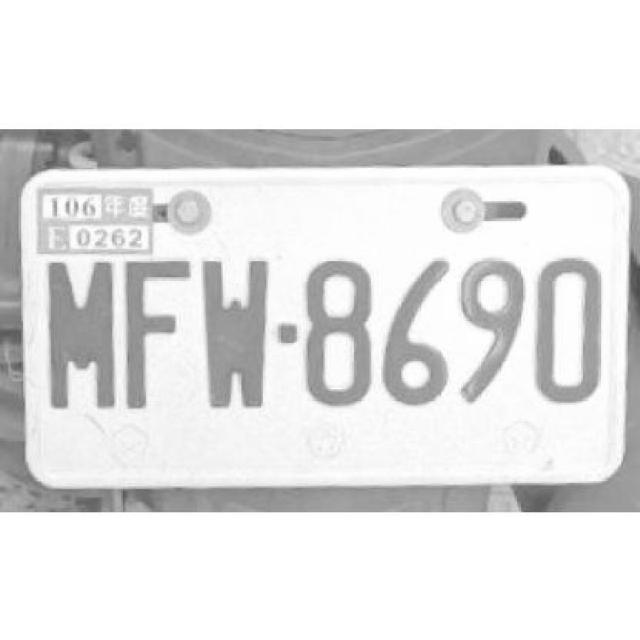-: (276, 318, 298, 344)
0: (534, 252, 604, 408)
6: (377, 248, 451, 412)
8: (298, 246, 372, 409)
9: (452, 249, 528, 408)
F: (124, 258, 190, 411)
M: (44, 258, 116, 409)
W: (198, 254, 270, 411)
